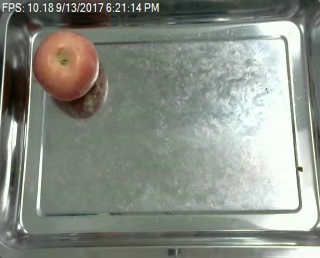Apple: (30, 29, 103, 102)
